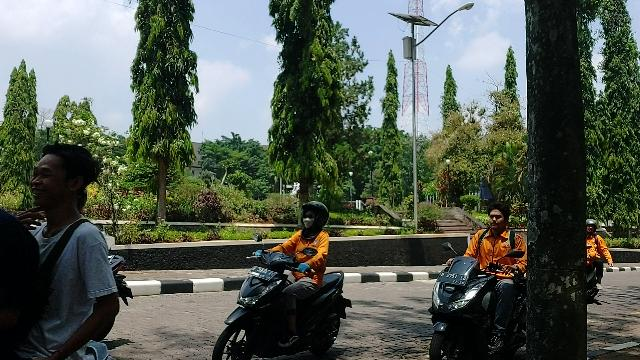helm: (302, 202, 330, 230), (588, 220, 598, 234)
motor: (213, 250, 353, 360), (431, 259, 527, 360)
non-helm: (30, 146, 100, 208), (489, 205, 511, 231)
